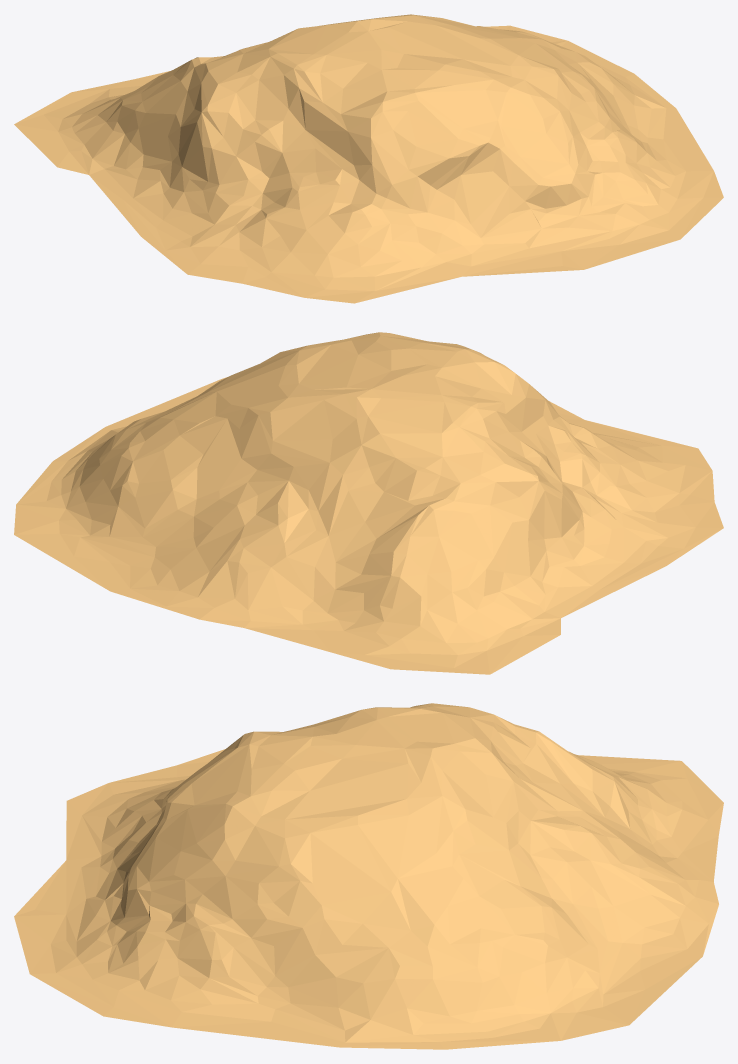
File: Terrain 06.FBX
3 renders of one model, top to bottom at view 1: azimuth 30°, elevation 25°; view 2: azimuth 150°, elevation 25°; view 3: azimuth 270°, elevation 25°, orthographic. The views are drawn at different scales.
Parts seen in each view (by area): view 1: plane; view 2: plane; view 3: plane.
Part boxes in pixels (box(x1,y1,x2,y2)): plane: box(14, 14, 723, 303); plane: box(14, 332, 723, 674); plane: box(14, 703, 723, 1049).
Size of the model in its own units: 100 by 22.26 by 99.66.
